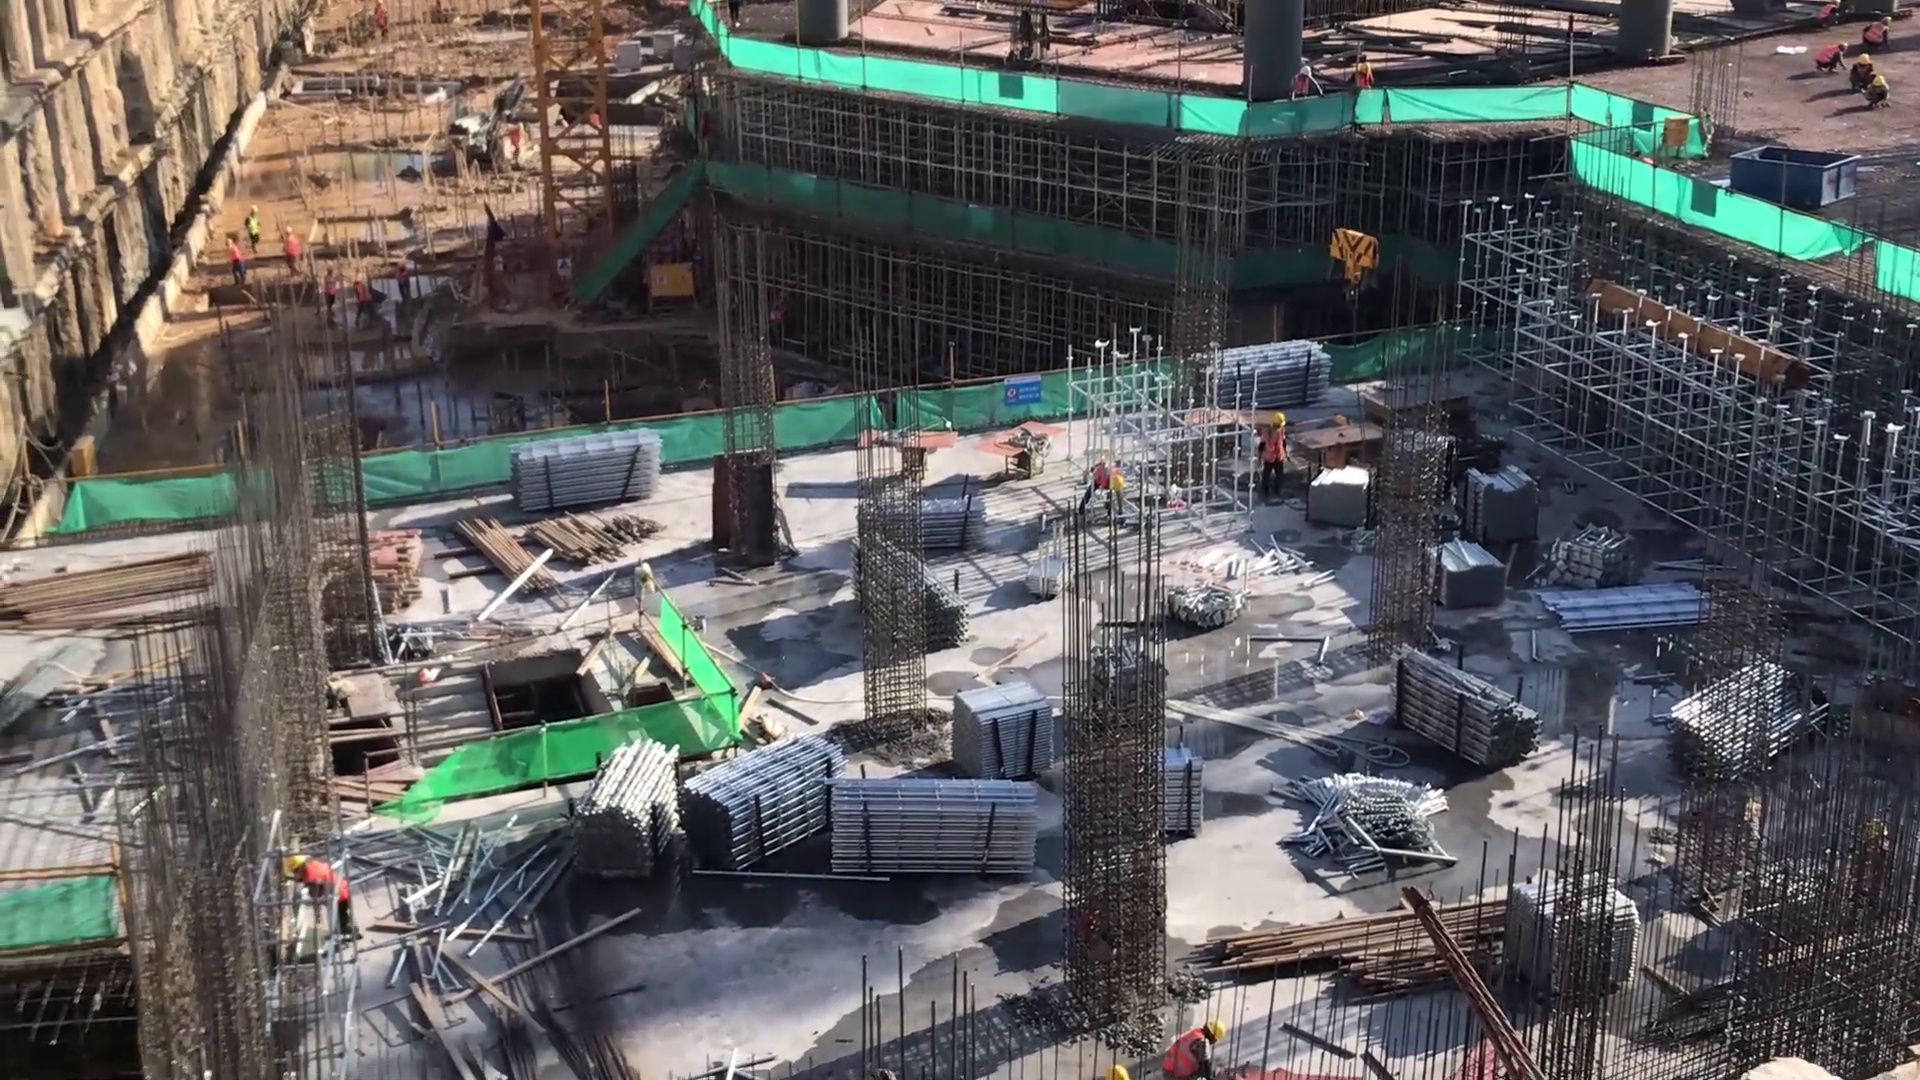cutter: (976, 416, 1067, 481), (860, 423, 960, 482)
ebox: (646, 250, 700, 326)
helmet: (1200, 1014, 1230, 1048), (283, 849, 308, 882), (1108, 470, 1132, 492), (1265, 412, 1288, 433)
hook: (1317, 221, 1386, 324)
hopper: (1722, 136, 1869, 224)
person: (276, 844, 363, 950), (1141, 1012, 1238, 1080), (1251, 408, 1301, 512), (1072, 450, 1135, 531)
scaffold: (684, 722, 852, 883), (826, 768, 1048, 886), (1381, 630, 1547, 767), (569, 725, 697, 888), (498, 420, 674, 523), (1206, 333, 1352, 420), (944, 676, 1056, 783), (1460, 456, 1542, 549), (1421, 536, 1515, 610), (915, 486, 992, 556), (1310, 462, 1381, 525)
vest: (1157, 1028, 1212, 1080), (303, 859, 349, 912), (1085, 457, 1112, 499), (1260, 432, 1291, 467)
